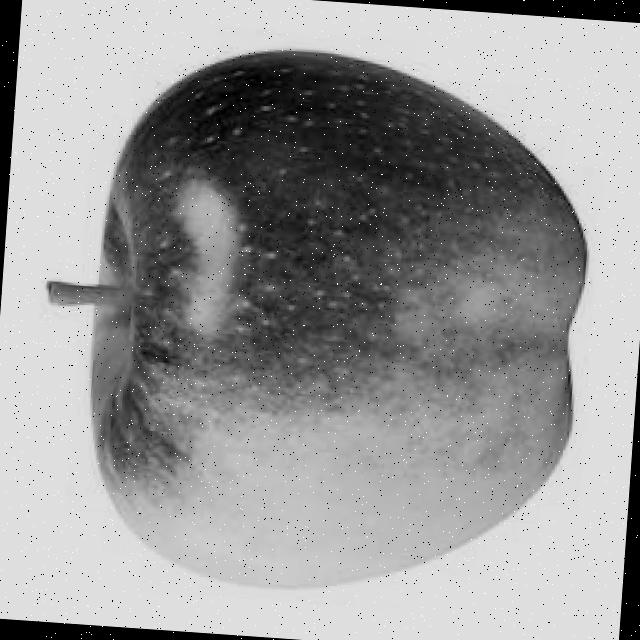apple: (20, 34, 603, 605)
